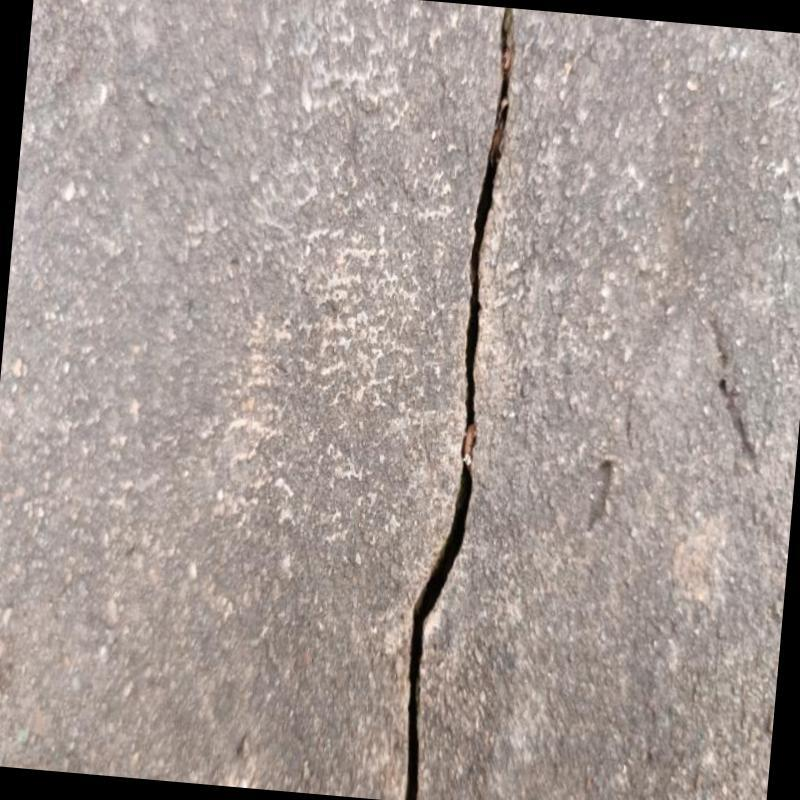pothole: (406, 8, 514, 800)
